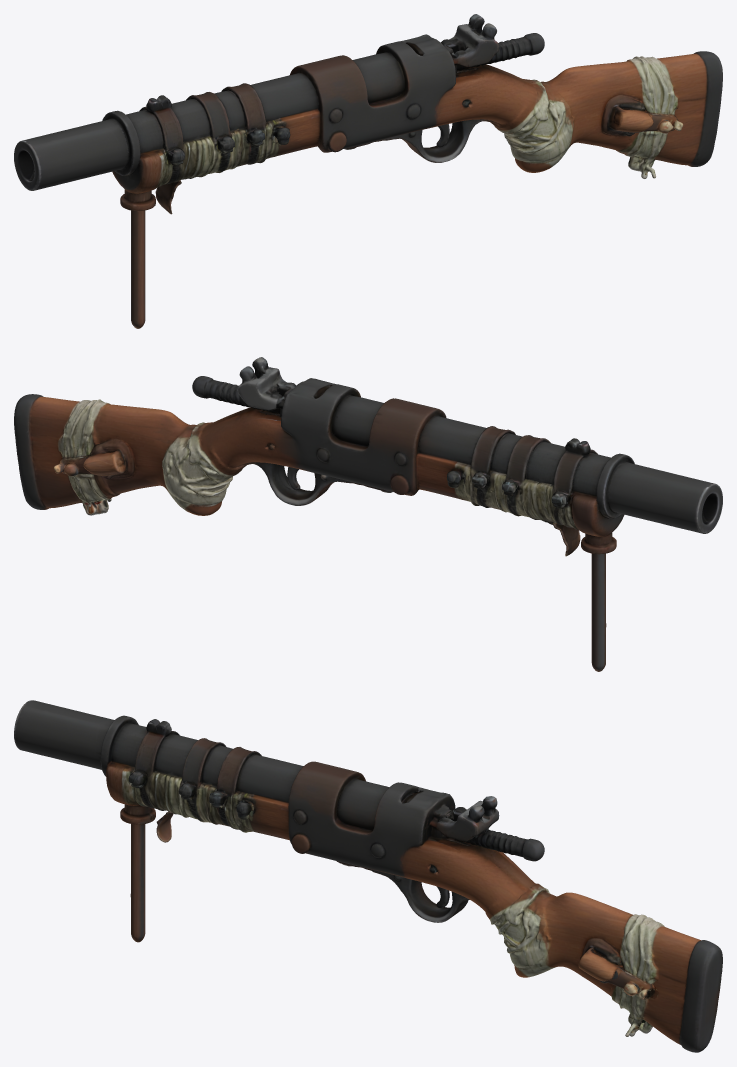
Rendered from Meshy_AI_Steampunk_Artisan_Rif_0627144810_texture.glb.
The picture shows the model from 3 angles, top to bottom: view 1: azimuth 30°, elevation 25°; view 2: azimuth 150°, elevation 25°; view 3: azimuth 330°, elevation 25°; orthographic projection.
Bounding box in the file's own units: 1.9 × 0.5945 × 0.2271.
Materials: 1 (1 with a texture image).
